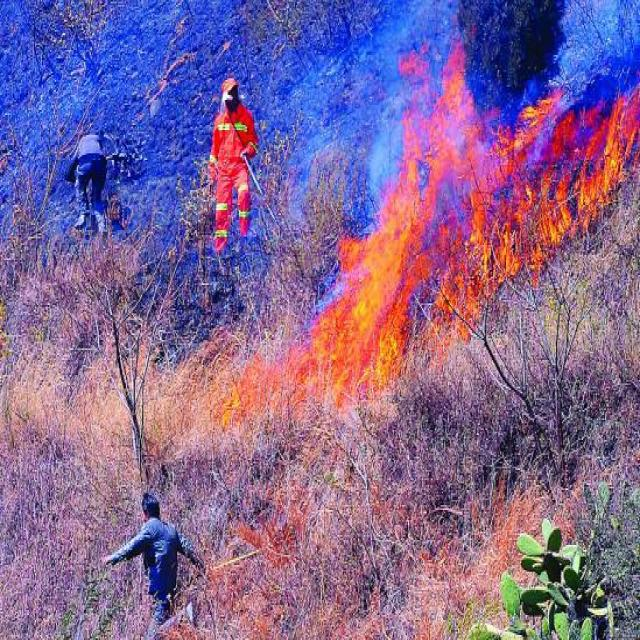fire: (191, 60, 638, 438)
other: (209, 76, 257, 255)
